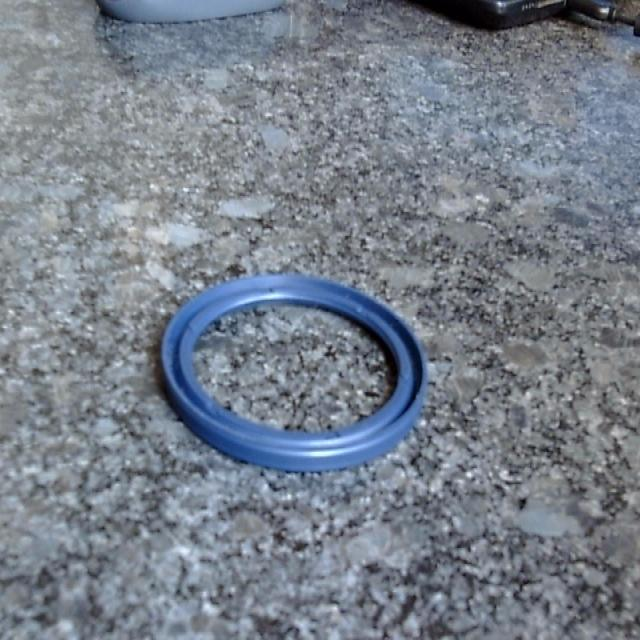cobalt-W-ring: (162, 275, 428, 472)
